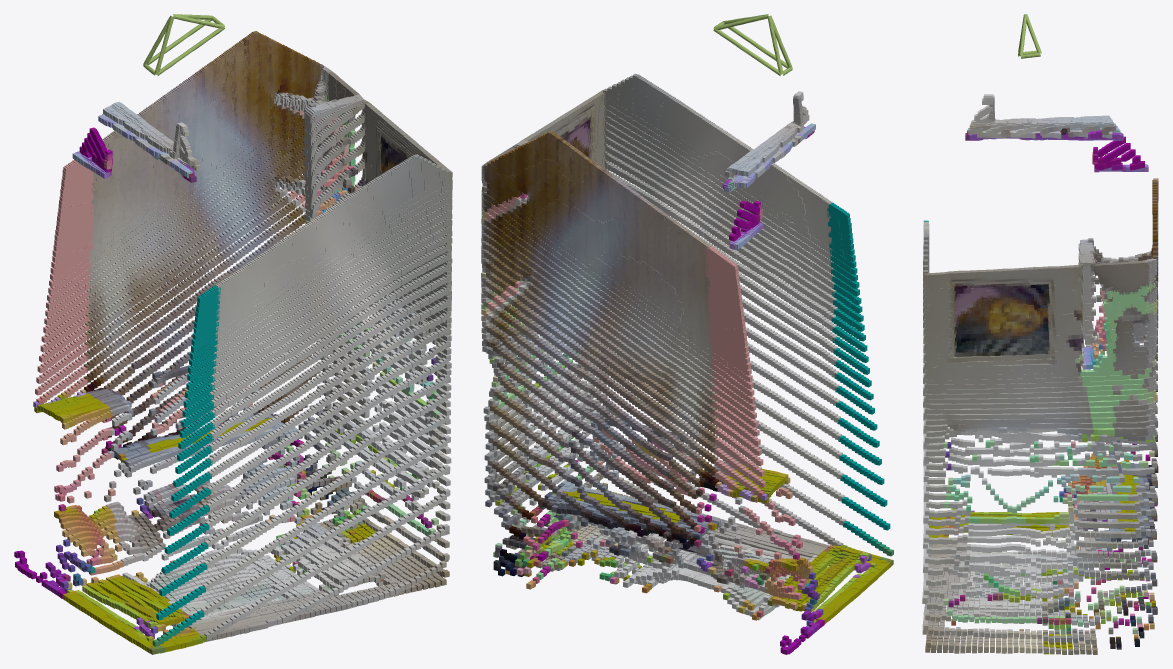
The picture shows the model from 3 angles, left to right: view 1: azimuth 30°, elevation 25°; view 2: azimuth 150°, elevation 25°; view 3: azimuth 270°, elevation 25°; orthographic projection. The views are drawn at different scales.
Size of the model in its own units: 3.54 by 6.19 by 2.4.
